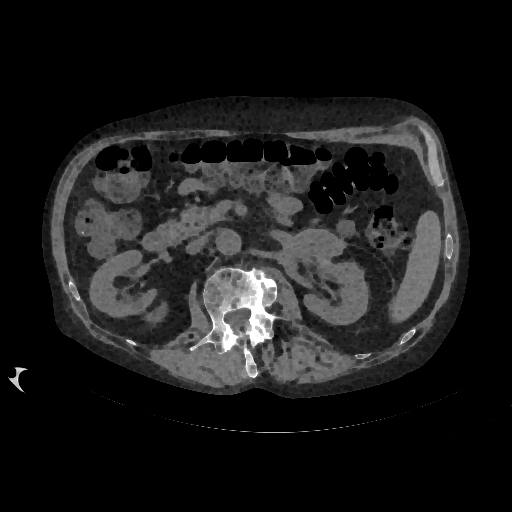Lesion: (298, 228, 349, 259)
